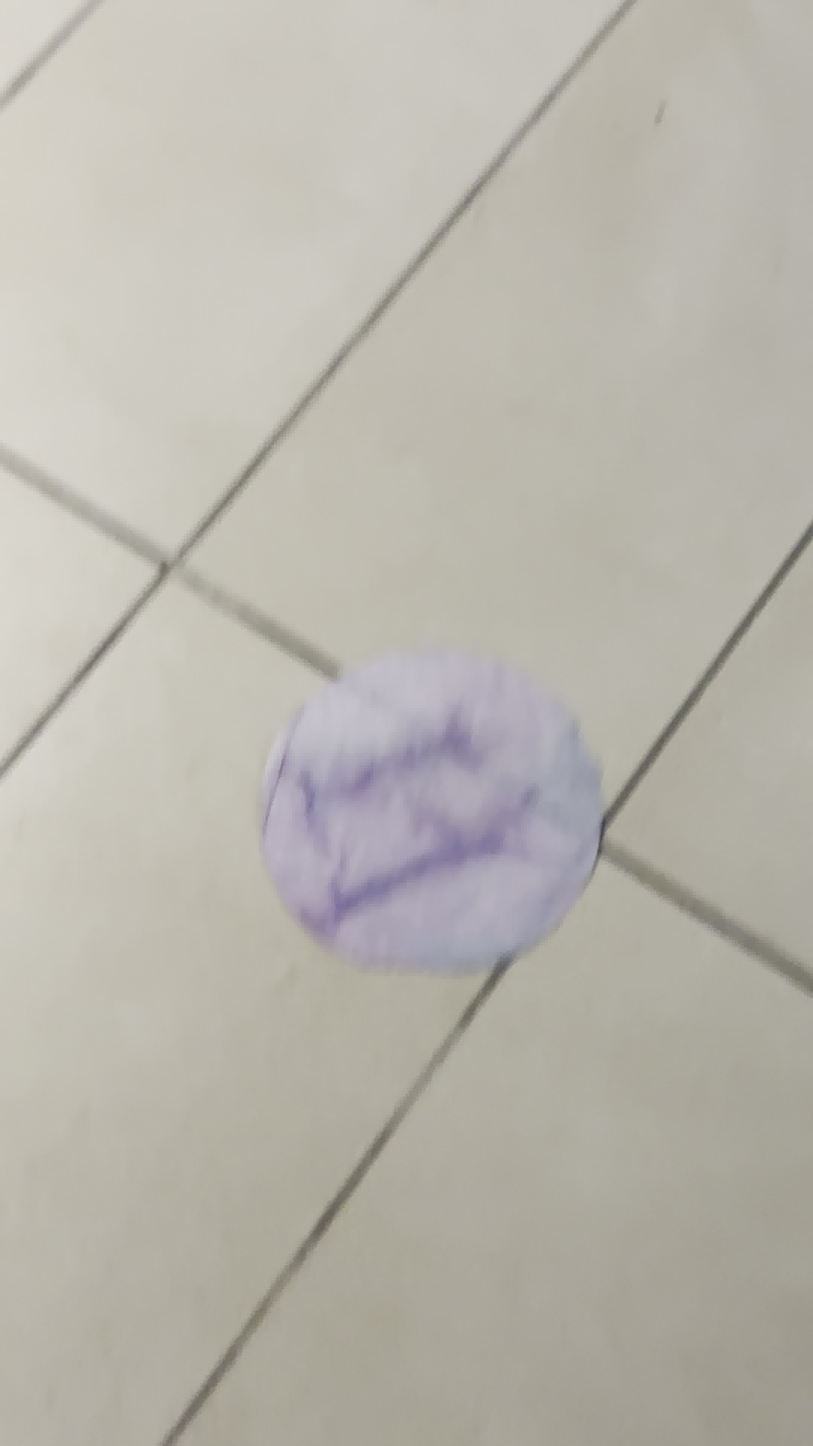Target: (250, 645, 604, 978)
